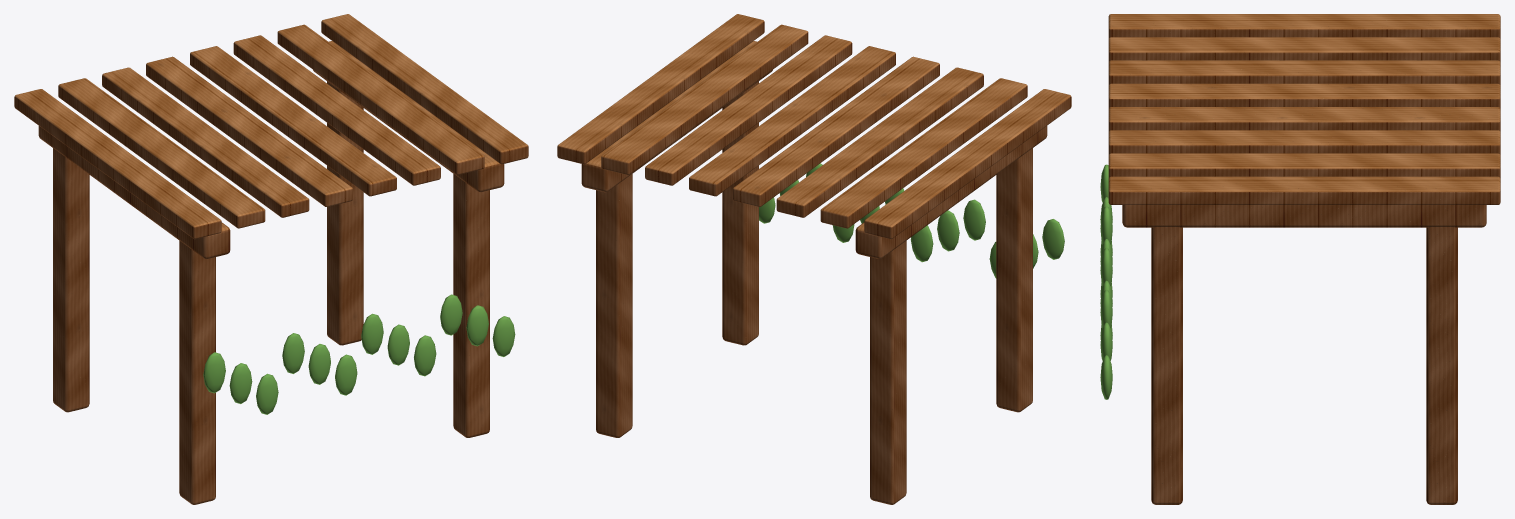
Rendered from pergola.glb.
3 views of the same model, side by side, from view 1: azimuth 30°, elevation 25°; view 2: azimuth 150°, elevation 25°; view 3: azimuth 270°, elevation 25° (orthographic). The views are drawn at different scales.
Parts seen in each view (by area): view 1: Pergola post.001, Pergola post, Pergola post.002, Pergola roof slat, Pergola roof slat.002, Pergola roof slat.005, Pergola roof slat.006, Pergola roof slat.007, Pergola roof slat.001, Pergola roof slat.004, Pergola roof slat.003, Pergola post.003 (+14 smaller); view 2: Pergola post.001, Pergola post.003, Pergola post, Pergola roof slat, Pergola roof slat.002, Pergola roof slat.005, Pergola roof slat.006, Pergola roof slat.007, Pergola roof slat.001, Pergola roof slat.004, Pergola roof slat.003, Pergola post.002 (+6 smaller); view 3: Pergola roof slat.007, Pergola roof slat.005, Pergola roof slat, Pergola roof slat.001, Pergola roof slat.004, Pergola roof slat.002, Pergola roof slat.006, Pergola roof slat.003, Pergola post.002, Pergola post.003, Pergola beam.001, Trailing vine.011.
Boxes of the visible parts, x1,y1,x2,y2 form: Pergola post.001: (53, 148, 89, 412); Pergola post: (179, 240, 215, 504); Pergola post.002: (453, 174, 489, 437); Pergola roof slat: (14, 89, 221, 239); Pergola roof slat.002: (102, 67, 309, 217); Pergola roof slat.005: (233, 35, 440, 185); Pergola roof slat.006: (277, 24, 484, 174); Pergola roof slat.007: (321, 14, 528, 164); Pergola roof slat.001: (58, 78, 265, 228); Pergola roof slat.004: (190, 46, 396, 196); Pergola roof slat.003: (146, 56, 352, 206); Pergola post.003: (327, 81, 363, 345); Pergola post.001: (870, 240, 906, 504); Pergola post.003: (596, 174, 632, 437); Pergola post: (996, 148, 1032, 412); Pergola roof slat: (864, 89, 1071, 239); Pergola roof slat.002: (776, 67, 983, 217); Pergola roof slat.005: (645, 35, 852, 185); Pergola roof slat.006: (601, 24, 808, 174); Pergola roof slat.007: (557, 14, 764, 164); Pergola roof slat.001: (820, 78, 1027, 228); Pergola roof slat.004: (689, 46, 895, 196); Pergola roof slat.003: (733, 56, 939, 206); Pergola post.002: (722, 81, 758, 345); Pergola roof slat.007: (1108, 176, 1500, 204); Pergola roof slat.005: (1108, 130, 1500, 155); Pergola roof slat: (1108, 14, 1500, 39); Pergola roof slat.001: (1108, 37, 1500, 62); Pergola roof slat.004: (1108, 107, 1500, 132); Pergola roof slat.002: (1108, 60, 1500, 85); Pergola roof slat.006: (1108, 153, 1500, 178); Pergola roof slat.003: (1108, 83, 1500, 108); Pergola post.002: (1151, 227, 1182, 504); Pergola post.003: (1426, 227, 1457, 504); Pergola beam.001: (1122, 205, 1486, 227); Trailing vine.011: (1100, 355, 1112, 399).
Bounding box in the file's own units: 3.06 × 2.61 × 2.91.
Materials: 3 (2 with a texture image).
